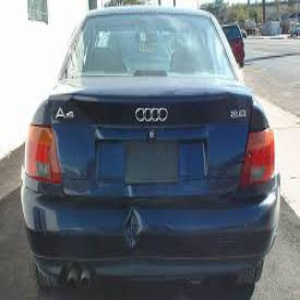bumper: (106, 208, 170, 252)
